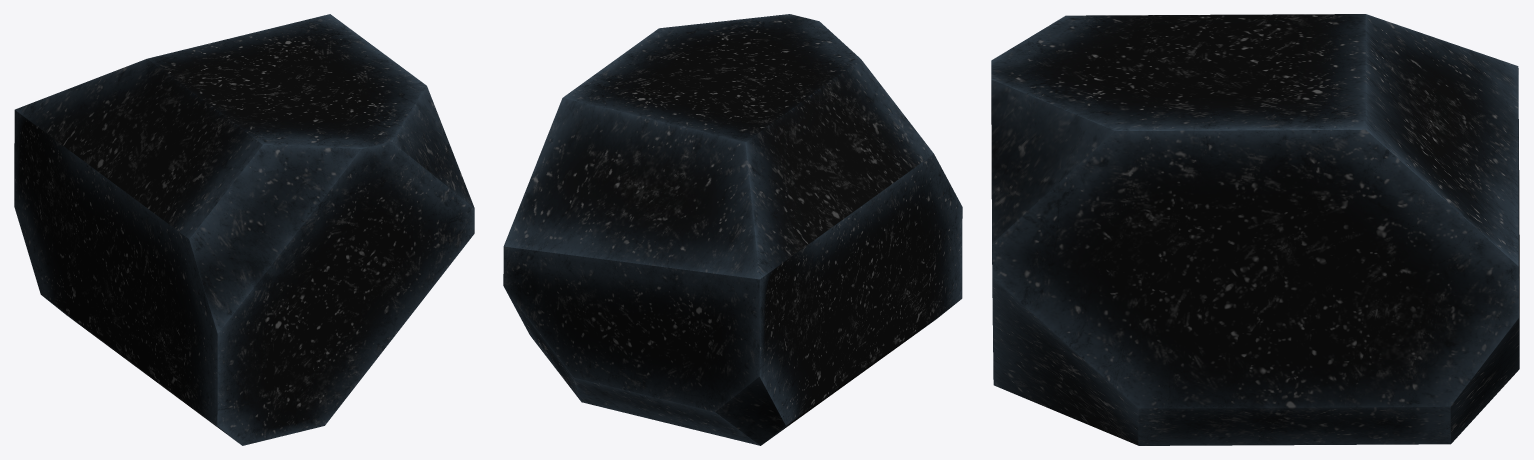
File: obsidian.fbx
3 views of the same model, side by side, from view 1: azimuth 30°, elevation 25°; view 2: azimuth 150°, elevation 25°; view 3: azimuth 270°, elevation 25° (orthographic). The views are drawn at different scales.
Visible parts, largest first — view 1: obsidian; view 2: obsidian; view 3: obsidian.
Part boxes in pixels (x1=…): obsidian: x1=14, y1=14, x2=474, y2=445; obsidian: x1=503, y1=14, x2=962, y2=445; obsidian: x1=991, y1=14, x2=1519, y2=445.
Bounding box in the file's own units: 200 × 201 × 275.
